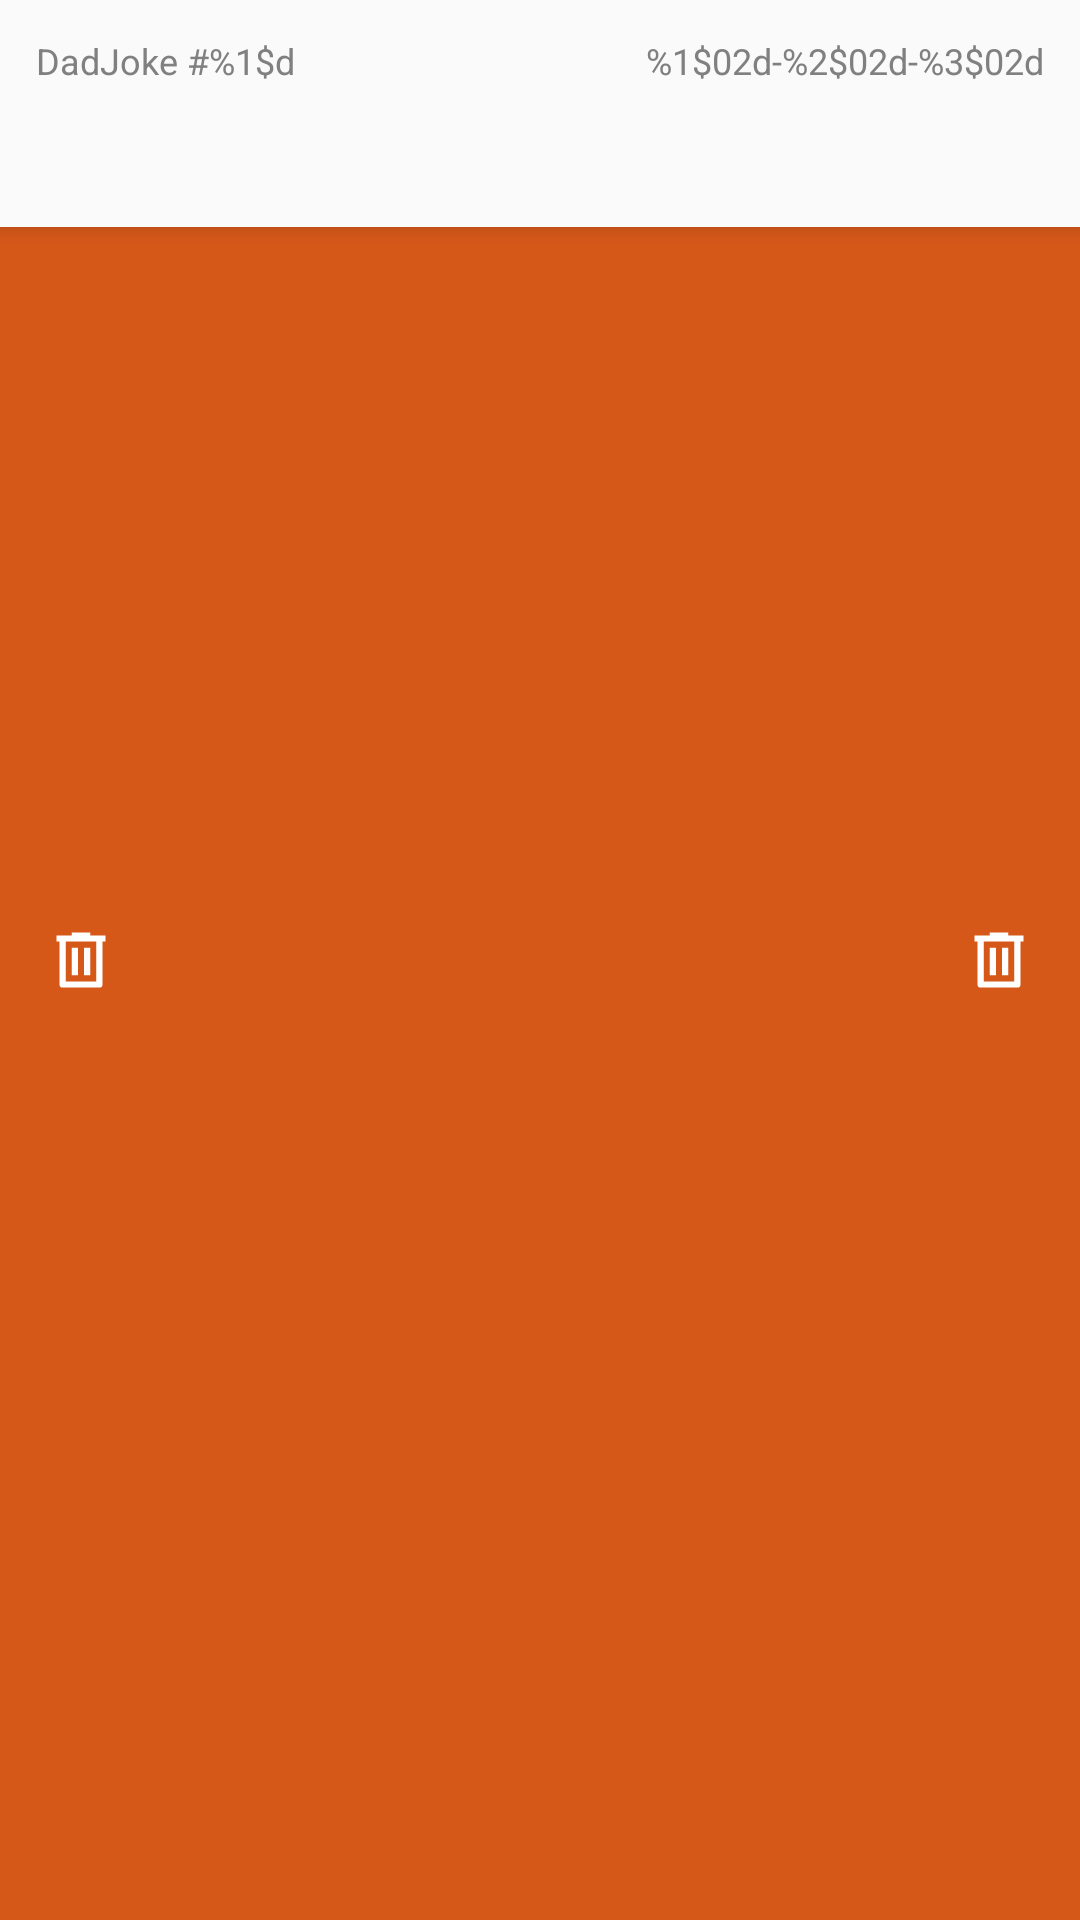

Icon click points for this 1080 × 1920 phone screenshot, format (x=x, y=y):
Trash: (x=81, y=960), (x=999, y=960)
